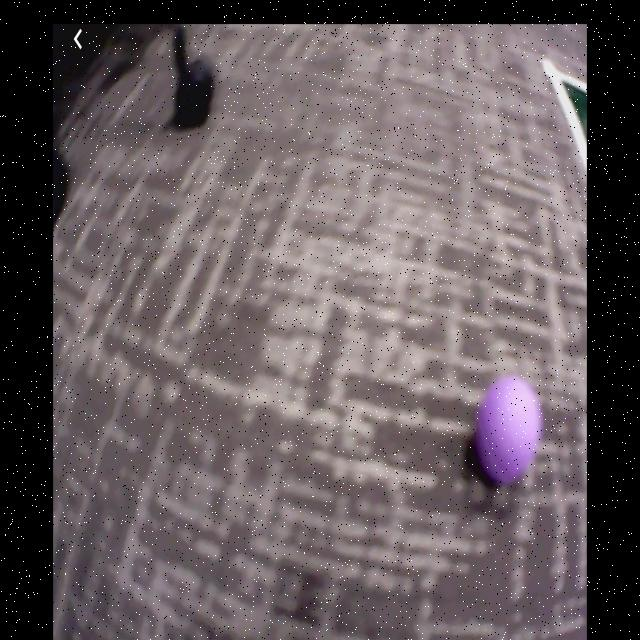ball: (474, 374, 545, 488)
